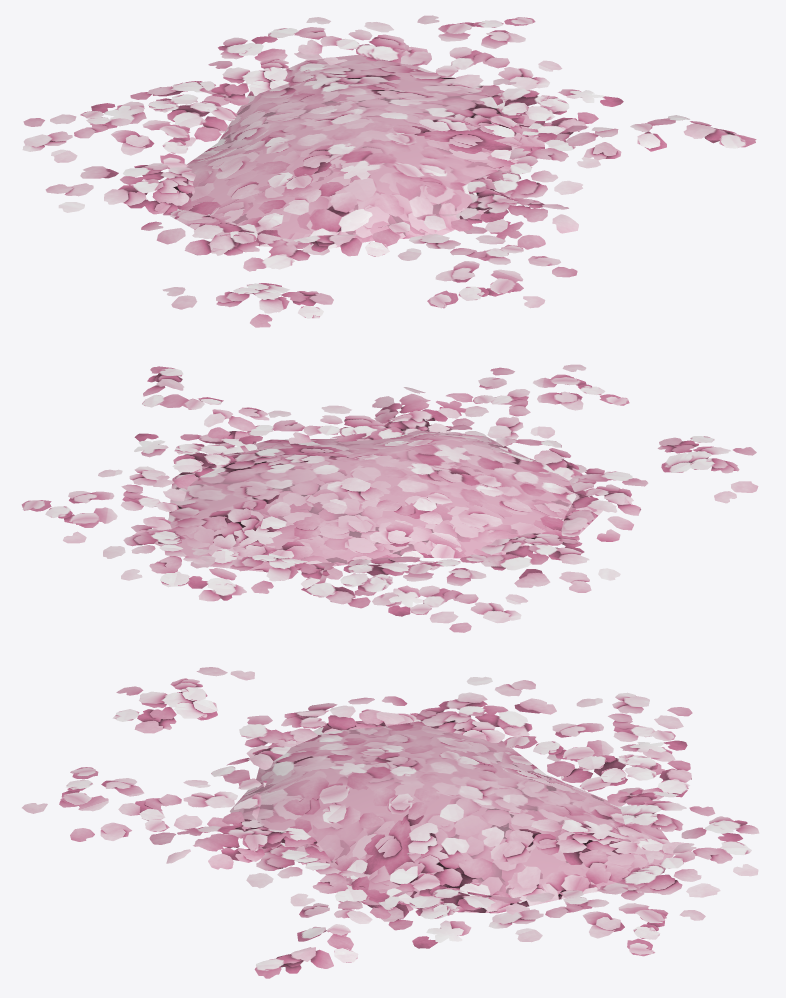
File: SM_Env_CherryBlossom_Pile_02.fbx
The picture shows the model from 3 angles, top to bottom: view 1: azimuth 30°, elevation 25°; view 2: azimuth 150°, elevation 25°; view 3: azimuth 270°, elevation 25°; orthographic projection. The views are drawn at different scales.
Visible parts, largest first — view 1: SM_Env_CherryBlossom_Pile_02; view 2: SM_Env_CherryBlossom_Pile_02; view 3: SM_Env_CherryBlossom_Pile_02.
Boxes of the visible parts, x1,y1,x2,y2 form: SM_Env_CherryBlossom_Pile_02: (22,15,756,327); SM_Env_CherryBlossom_Pile_02: (21,364,758,632); SM_Env_CherryBlossom_Pile_02: (22,667,759,978).
Bounding box in the file's own units: 302 × 15.63 × 303.
